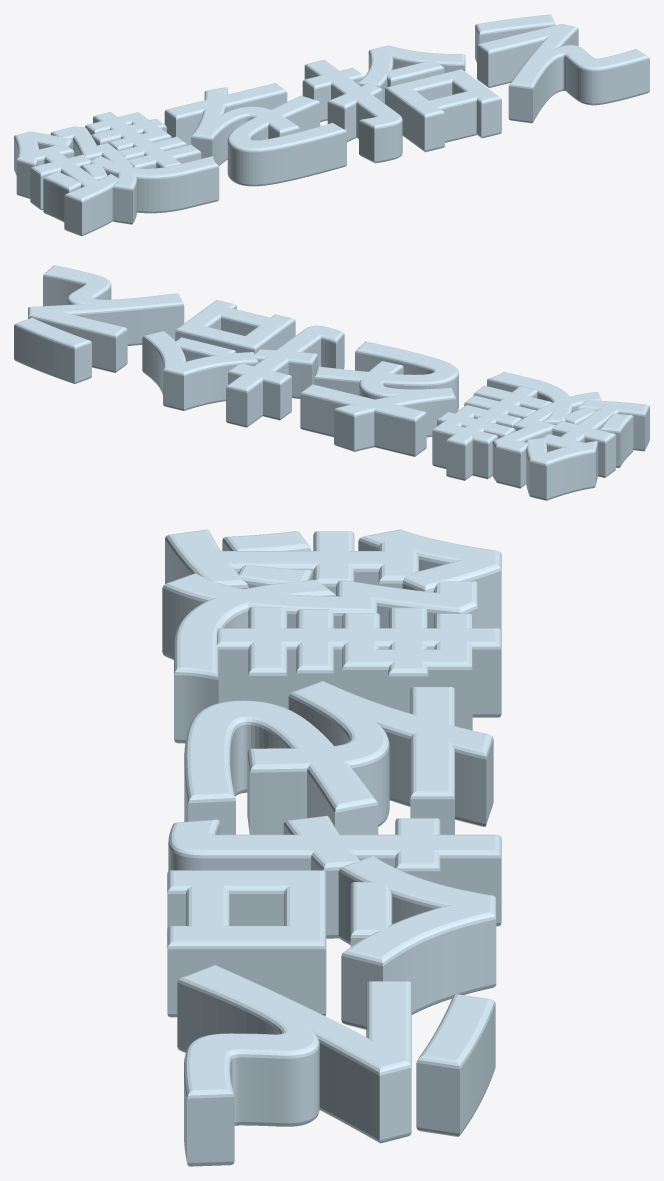
File: objective_pickup_key.obj
3 views of the same model, one above another, from view 1: azimuth 30°, elevation 25°; view 2: azimuth 150°, elevation 25°; view 3: azimuth 270°, elevation 25° (orthographic). The views are drawn at different scales.
Parts seen in each view (by area): view 1: ObjectivePickupKey; view 2: ObjectivePickupKey; view 3: ObjectivePickupKey.
Part boxes in pixels (x1,y1,x2,y2): ObjectivePickupKey: [14, 14, 649, 236]; ObjectivePickupKey: [14, 265, 649, 500]; ObjectivePickupKey: [162, 529, 501, 1166].
Bounding box in the file's own units: 4.8 × 0.2988 × 1.22.
1 material, 1 textured.
